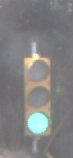Green: (16, 50, 55, 145)
